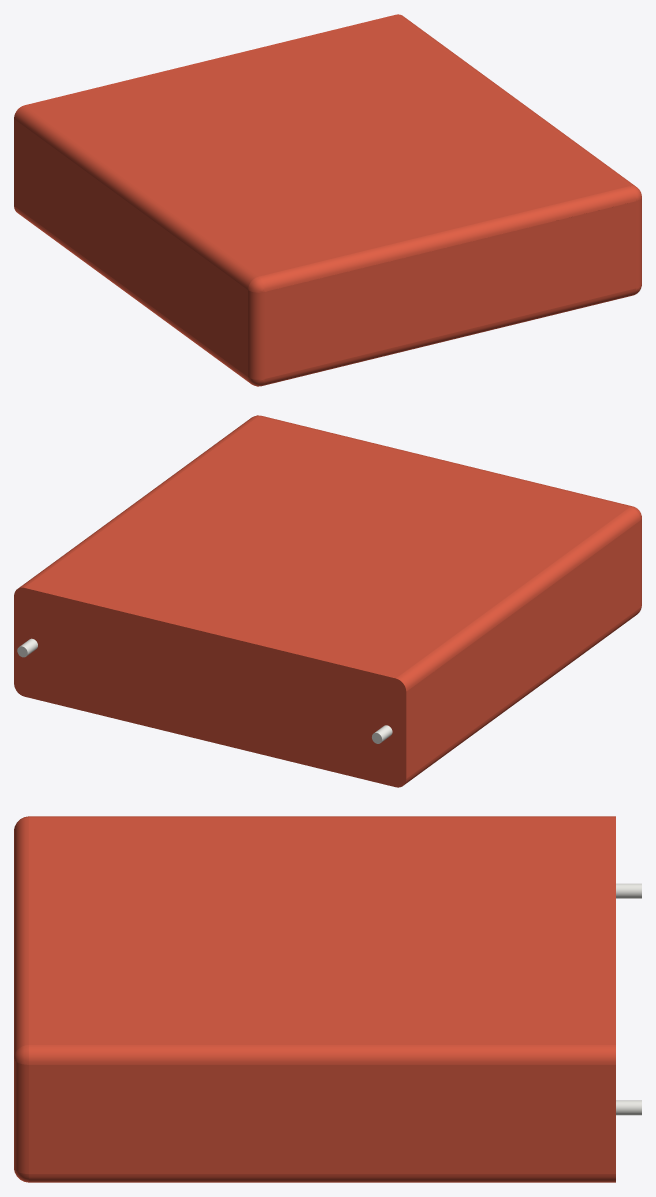
File: C_Rect_L41.5mm_W11.0mm_P37.50mm_MKS4.glb
The picture shows the model from 3 angles, top to bottom: view 1: azimuth 30°, elevation 25°; view 2: azimuth 150°, elevation 25°; view 3: azimuth 270°, elevation 25°; orthographic projection. The views are drawn at different scales.
Visible parts, largest first — view 1: Shape_IndexedFaceSet.009, Shape_IndexedFaceSet.008, Shape_IndexedFaceSet, Shape_IndexedFaceSet.016, Shape_IndexedFaceSet.004, Shape_IndexedFaceSet.015, Shape_IndexedFaceSet.002, Shape_IndexedFaceSet.001, Shape_IndexedFaceSet.011; view 2: Shape_IndexedFaceSet.009, Shape_IndexedFaceSet.003, Shape_IndexedFaceSet, Shape_IndexedFaceSet.004, Shape_IndexedFaceSet.001, Shape_IndexedFaceSet.011, Shape_IndexedFaceSet.016; view 3: Shape_IndexedFaceSet.009, Shape_IndexedFaceSet.012, Shape_IndexedFaceSet.011, Shape_IndexedFaceSet.010, Shape_IndexedFaceSet.016, Shape_IndexedFaceSet.017, Shape_IndexedFaceSet.004.
Boxes of the visible parts, x1,y1,x2,y2 form: Shape_IndexedFaceSet.009: [25, 14, 629, 276]; Shape_IndexedFaceSet.008: [264, 201, 635, 378]; Shape_IndexedFaceSet: [14, 119, 247, 376]; Shape_IndexedFaceSet.016: [259, 186, 635, 291]; Shape_IndexedFaceSet.004: [14, 105, 258, 289]; Shape_IndexedFaceSet.015: [262, 288, 635, 385]; Shape_IndexedFaceSet.002: [248, 290, 264, 379]; Shape_IndexedFaceSet.001: [14, 206, 250, 383]; Shape_IndexedFaceSet.011: [396, 14, 635, 186]; Shape_IndexedFaceSet.009: [24, 416, 629, 678]; Shape_IndexedFaceSet.003: [14, 587, 406, 787]; Shape_IndexedFaceSet: [406, 521, 640, 778]; Shape_IndexedFaceSet.004: [396, 507, 640, 691]; Shape_IndexedFaceSet.001: [404, 608, 640, 784]; Shape_IndexedFaceSet.011: [18, 416, 257, 588]; Shape_IndexedFaceSet.016: [259, 415, 631, 506]; Shape_IndexedFaceSet.009: [29, 817, 615, 1044]; Shape_IndexedFaceSet.012: [29, 1065, 615, 1173]; Shape_IndexedFaceSet.011: [29, 1045, 615, 1064]; Shape_IndexedFaceSet.010: [29, 1174, 615, 1182]; Shape_IndexedFaceSet.016: [14, 817, 28, 1056]; Shape_IndexedFaceSet.017: [14, 1059, 28, 1173]; Shape_IndexedFaceSet.004: [29, 816, 615, 817].
Size of the model in its own units: 16.34 by 4.33 by 18.07.
